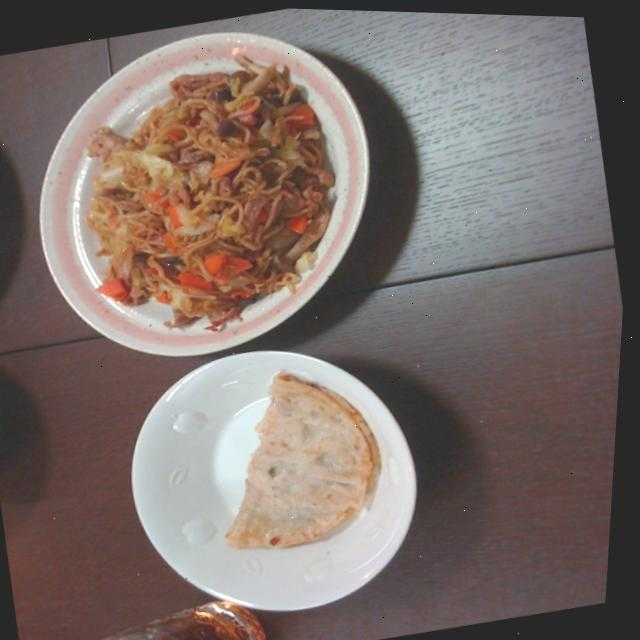面条主食: (0, 1, 411, 385)
